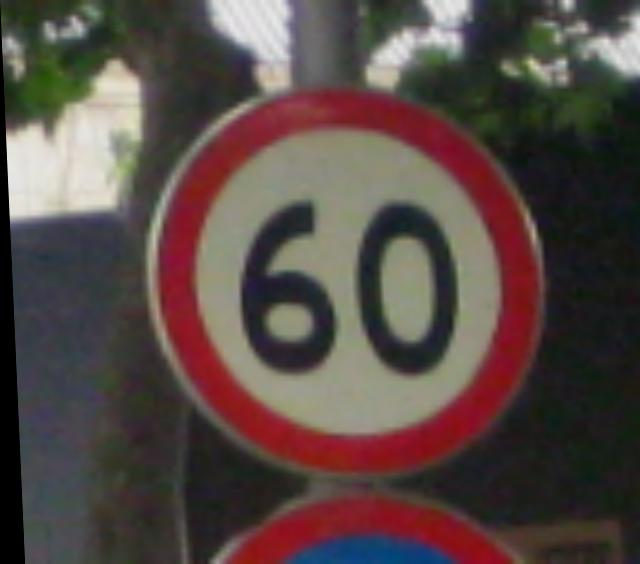limit60: (123, 76, 559, 486)
